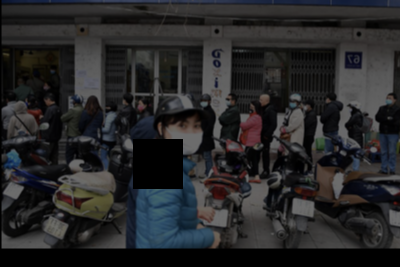with_mask: (163, 117, 203, 158), (199, 98, 207, 109), (384, 96, 392, 105), (224, 97, 231, 107), (288, 100, 296, 108), (247, 104, 253, 114), (136, 101, 142, 111), (41, 84, 48, 91), (302, 103, 308, 111), (48, 68, 55, 74), (103, 105, 108, 113), (120, 98, 124, 106), (23, 100, 27, 107), (348, 105, 351, 114)
without_mask: (257, 96, 266, 106), (42, 98, 49, 107)
